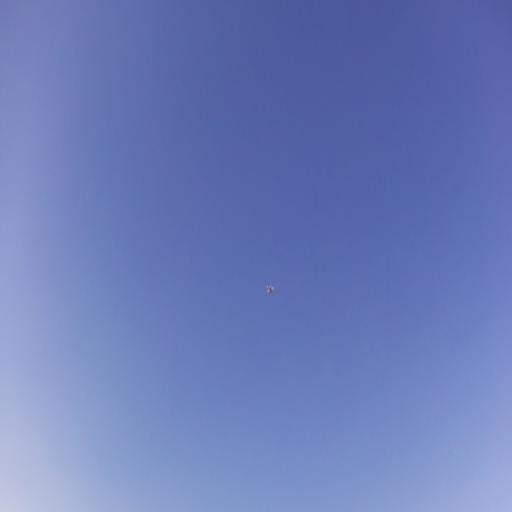drones: (264, 281, 278, 297)
